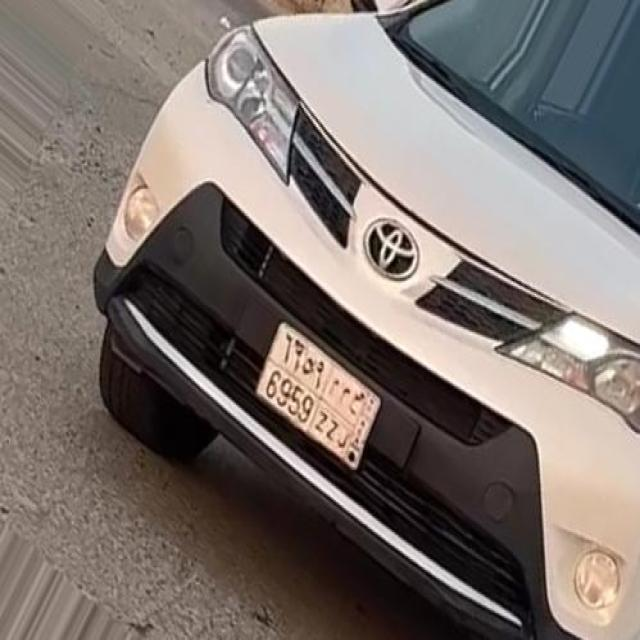Car-plate: (247, 296, 392, 480)
